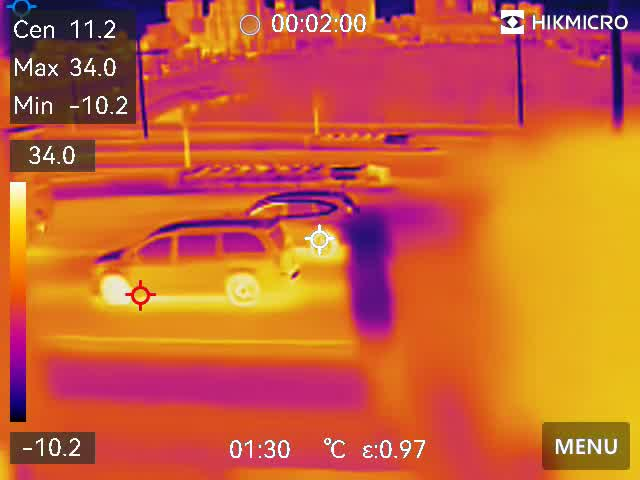largeCar: (92, 215, 289, 307), (245, 189, 367, 252)
